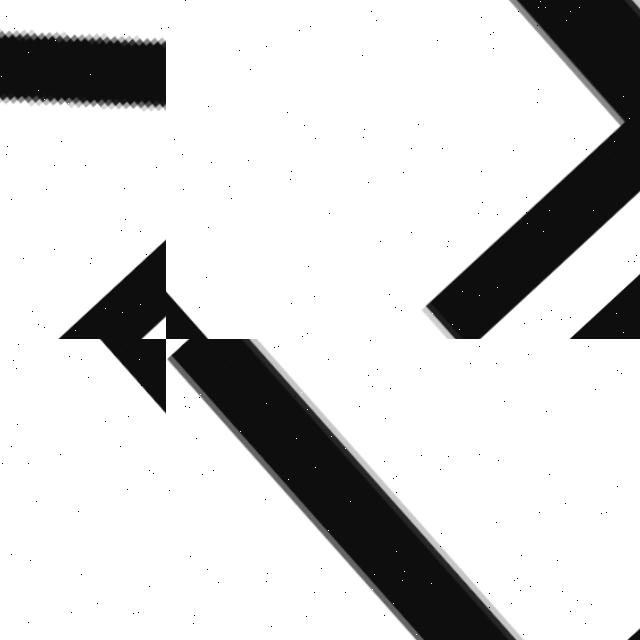1: (0, 339, 166, 640)
I: (166, 339, 579, 640)
L: (166, 0, 640, 339)
Z: (0, 0, 166, 339)
